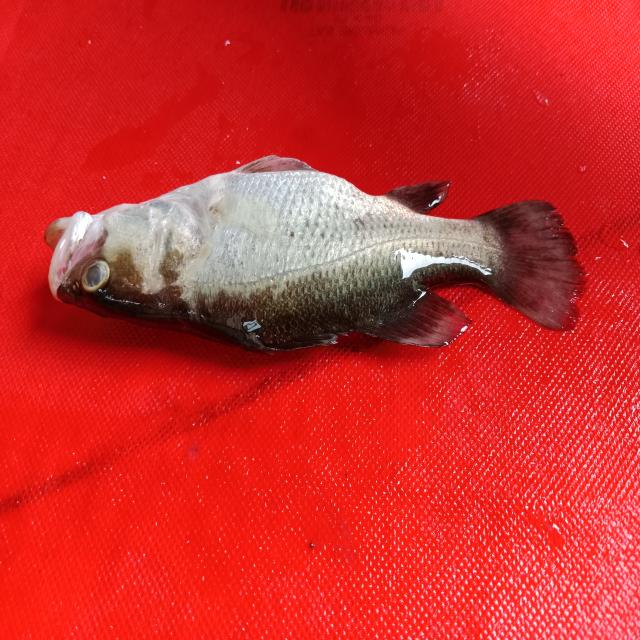ikan: (30, 140, 595, 383)
